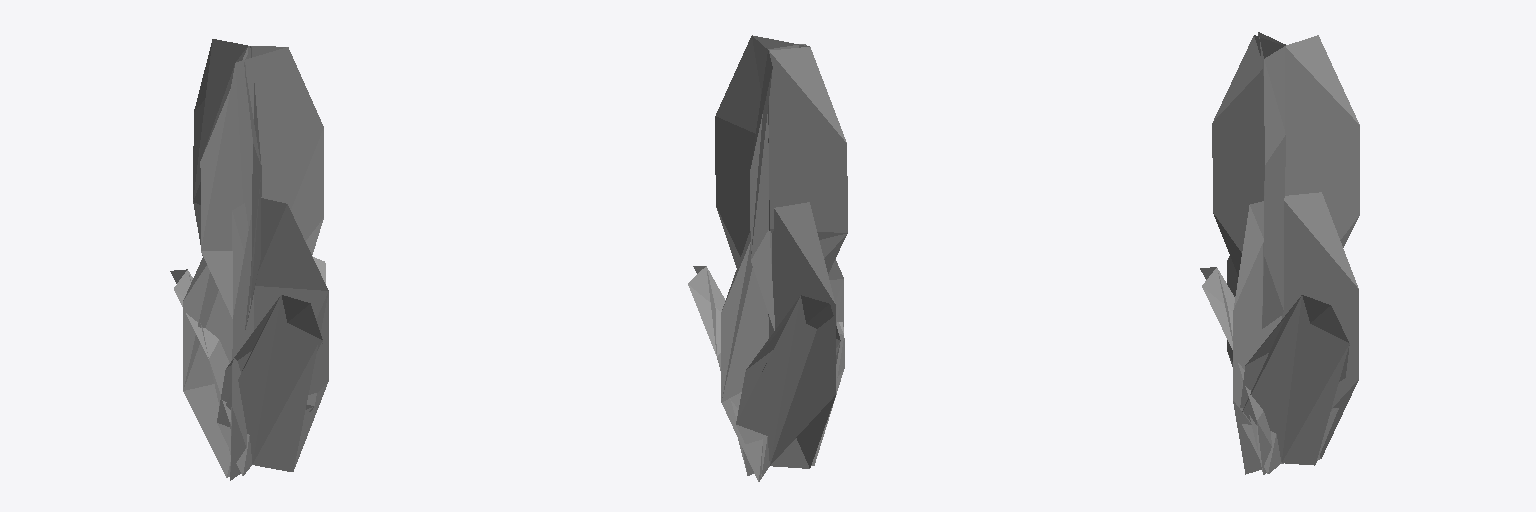
File: Kelp_blend.obj
The picture shows the model from 3 angles: view 1: azimuth 30°, elevation 25°; view 2: azimuth 150°, elevation 25°; view 3: azimuth 270°, elevation 25°; orthographic projection.
Parts seen in each view (by area): view 1: Untitled.001_KelpOne128, Untitled_KelpOne256; view 2: Untitled_KelpOne256, Untitled.001_KelpOne128; view 3: Untitled_KelpOne256, Untitled.001_KelpOne128.
Boxes of the visible parts, box(x1,y1,x2,y2) form: Untitled.001_KelpOne128: box(170, 39, 328, 471); Untitled_KelpOne256: box(174, 39, 328, 480); Untitled_KelpOne256: box(688, 36, 847, 481); Untitled.001_KelpOne128: box(693, 35, 846, 471); Untitled_KelpOne256: box(1202, 32, 1359, 474); Untitled.001_KelpOne128: box(1200, 33, 1359, 471).
Size of the model in its own units: 0.6277 by 1.73 by 0.6026.